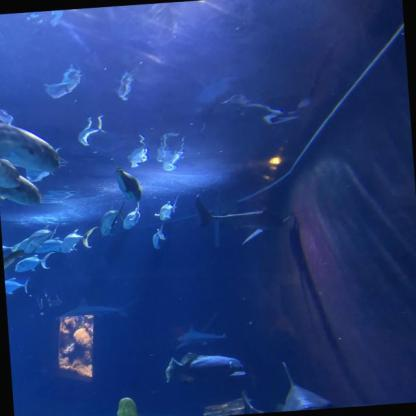fish: (0, 118, 61, 176), (164, 348, 246, 386), (0, 173, 42, 208), (22, 222, 61, 253), (59, 226, 100, 254), (98, 200, 127, 236), (13, 252, 57, 272), (34, 236, 76, 255), (153, 195, 180, 222), (0, 157, 21, 190), (121, 201, 140, 229), (150, 222, 167, 250), (5, 276, 31, 294)
shark: (191, 184, 305, 250), (267, 356, 377, 412), (53, 294, 141, 322), (173, 321, 226, 350)
stingray: (114, 165, 142, 203)
